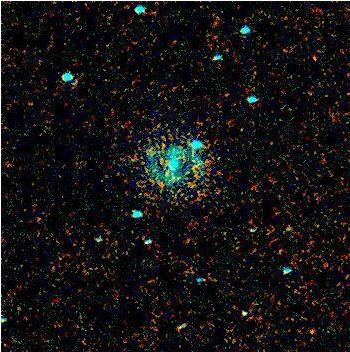star: (297, 315, 327, 345)
